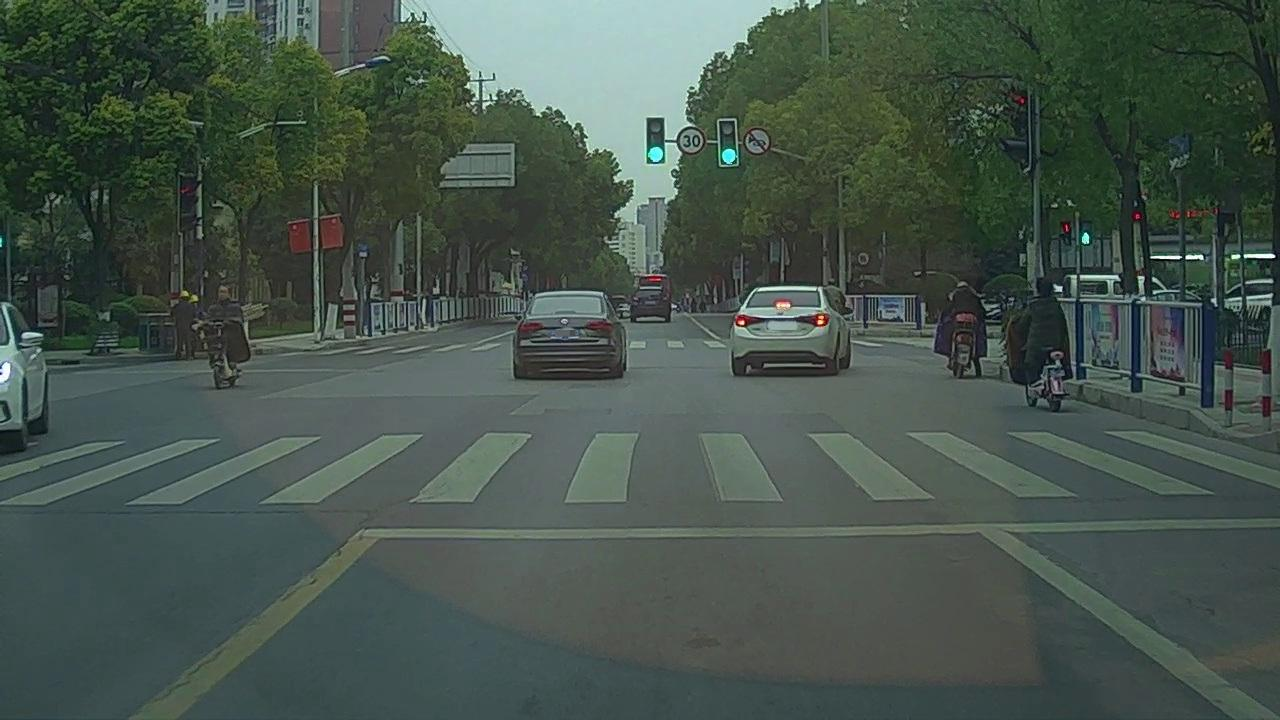traffic_light: (646, 119, 667, 164), (718, 122, 738, 166)
